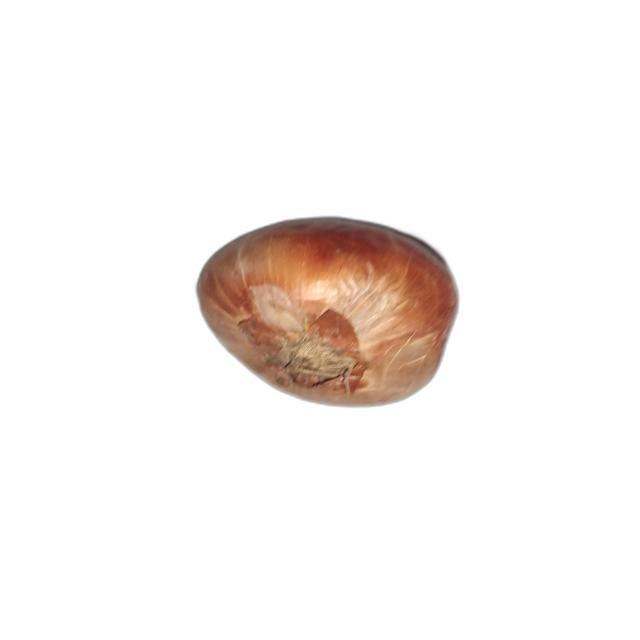onion: (196, 217, 462, 407)
